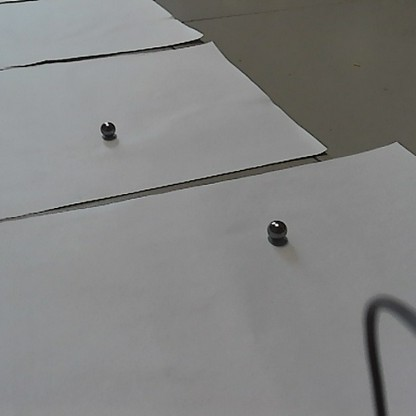ironball: (264, 216, 290, 242), (99, 118, 114, 137)
